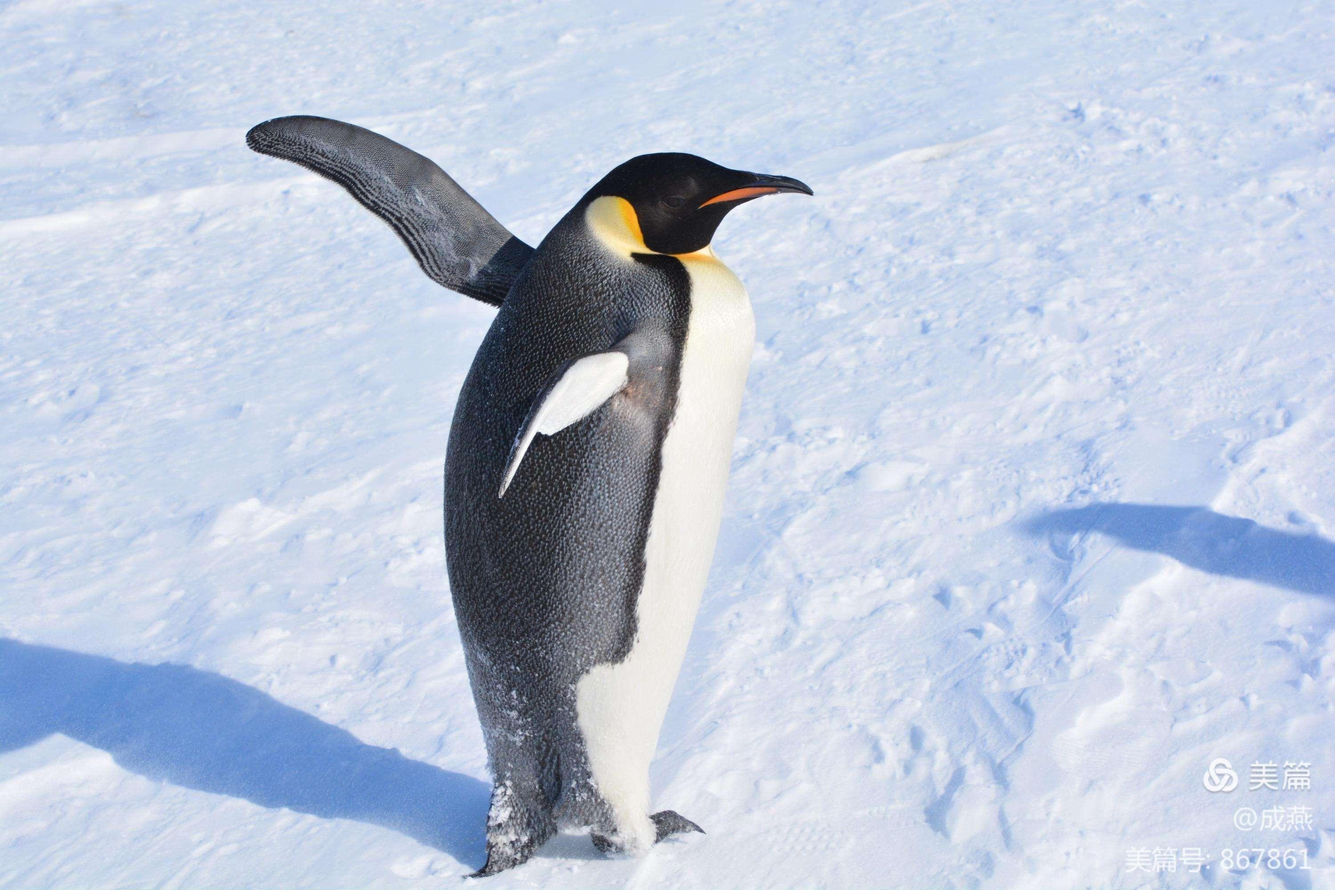Penguin: (248, 117, 811, 876)
